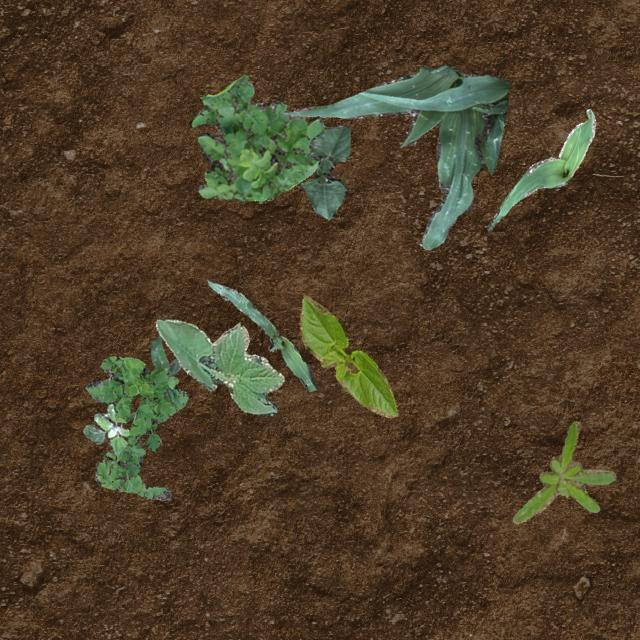crop: (282, 65, 508, 248), (486, 107, 594, 230), (154, 318, 284, 414), (207, 280, 317, 390), (298, 294, 396, 416), (102, 334, 180, 424), (301, 124, 348, 218)
weed: (188, 74, 324, 202), (84, 356, 188, 500), (512, 420, 616, 522), (82, 402, 128, 454)
